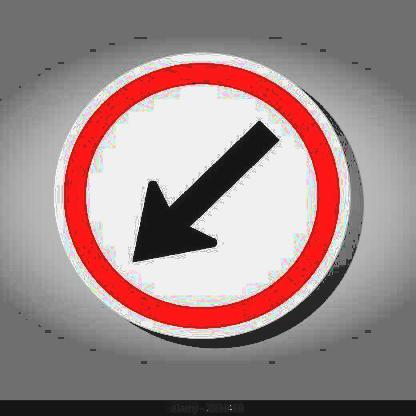Keep left: (53, 51, 353, 346)
